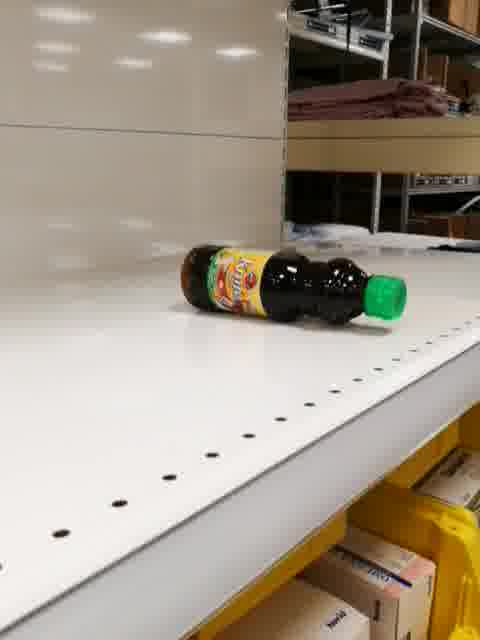cookingoil: (178, 242, 410, 333)
